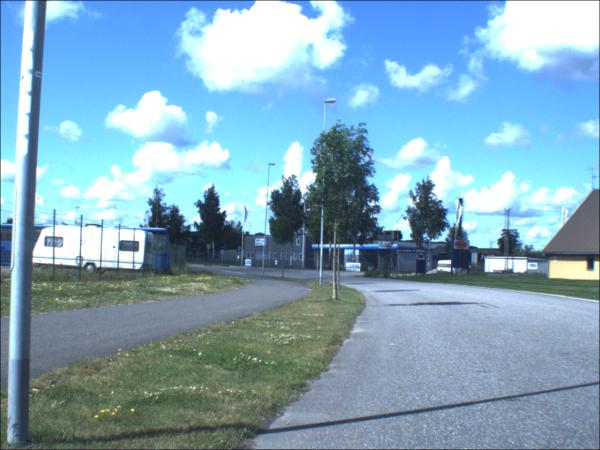PASS_RIGHT_SIDE: (221, 250, 225, 256)
PEDESTRIAN_CROSSING: (220, 245, 225, 251)
